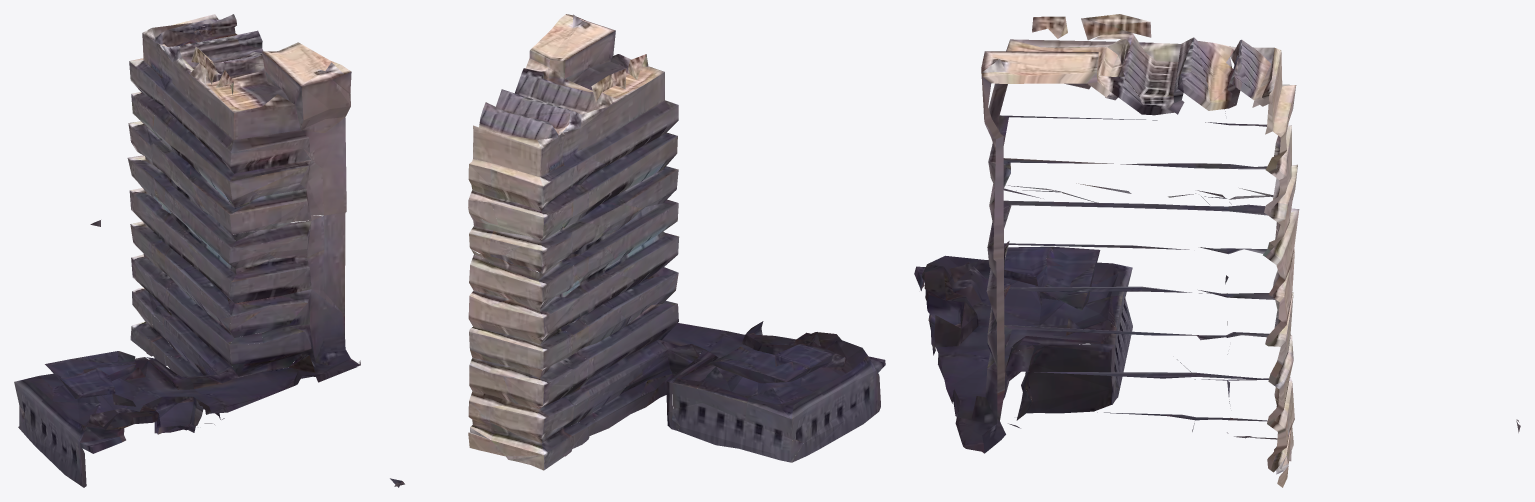
The picture shows the model from 3 angles, left to right: view 1: azimuth 30°, elevation 25°; view 2: azimuth 150°, elevation 25°; view 3: azimuth 270°, elevation 25°; orthographic projection. The views are drawn at different scales.
Visible parts, largest first — view 1: Mesh_0; view 2: Mesh_0; view 3: Mesh_0.
Boxes of the visible parts, x1=… form: Mesh_0: x1=14, y1=14, x2=360, y2=487; Mesh_0: x1=390, y1=14, x2=885, y2=487; Mesh_0: x1=914, y1=14, x2=1520, y2=487.
Size of the model in its own units: 29.3 by 32.86 by 41.46.
2 materials, 2 textured.
